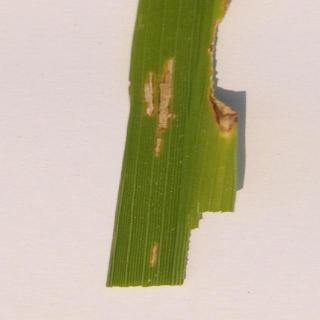Hawar-Daun: (190, 0, 244, 184), (138, 52, 180, 171), (141, 216, 168, 285)
